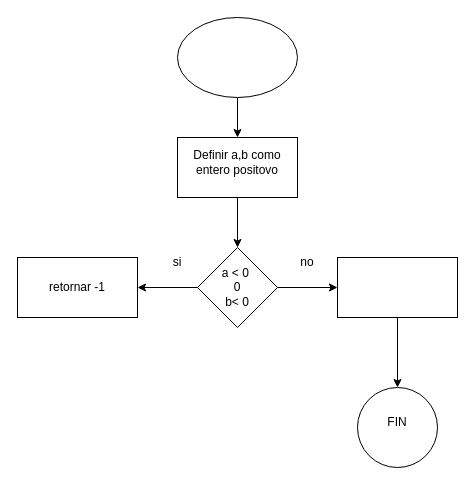
The diagram is 475 pixels wide and 485 high, and some of its shapes have lost their labels. Each missing label, with the centre of its shape:
"INICIOI" goes at point (237, 57).
"retornar a+b" goes at point (397, 287).
